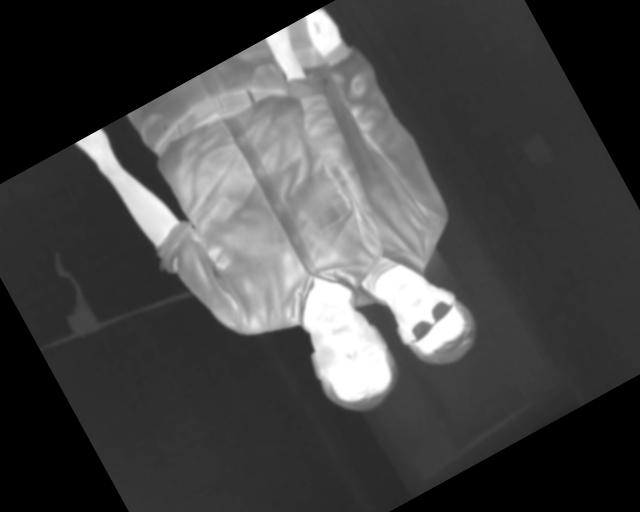face: (289, 290, 414, 427), (377, 263, 488, 381)
